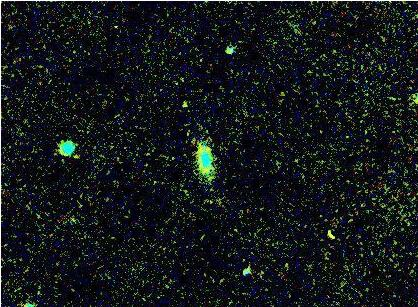star: (171, 91, 201, 121)
